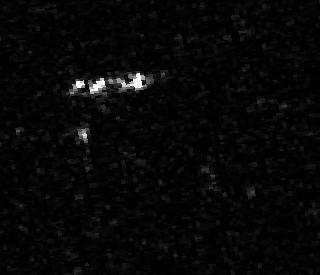ship: (71, 71, 150, 97)
